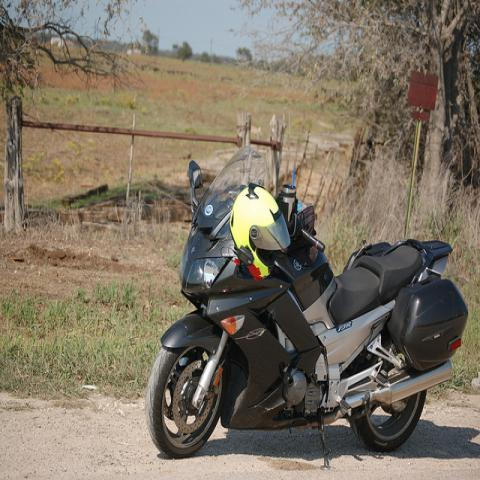motorcycle: (127, 157, 463, 446)
